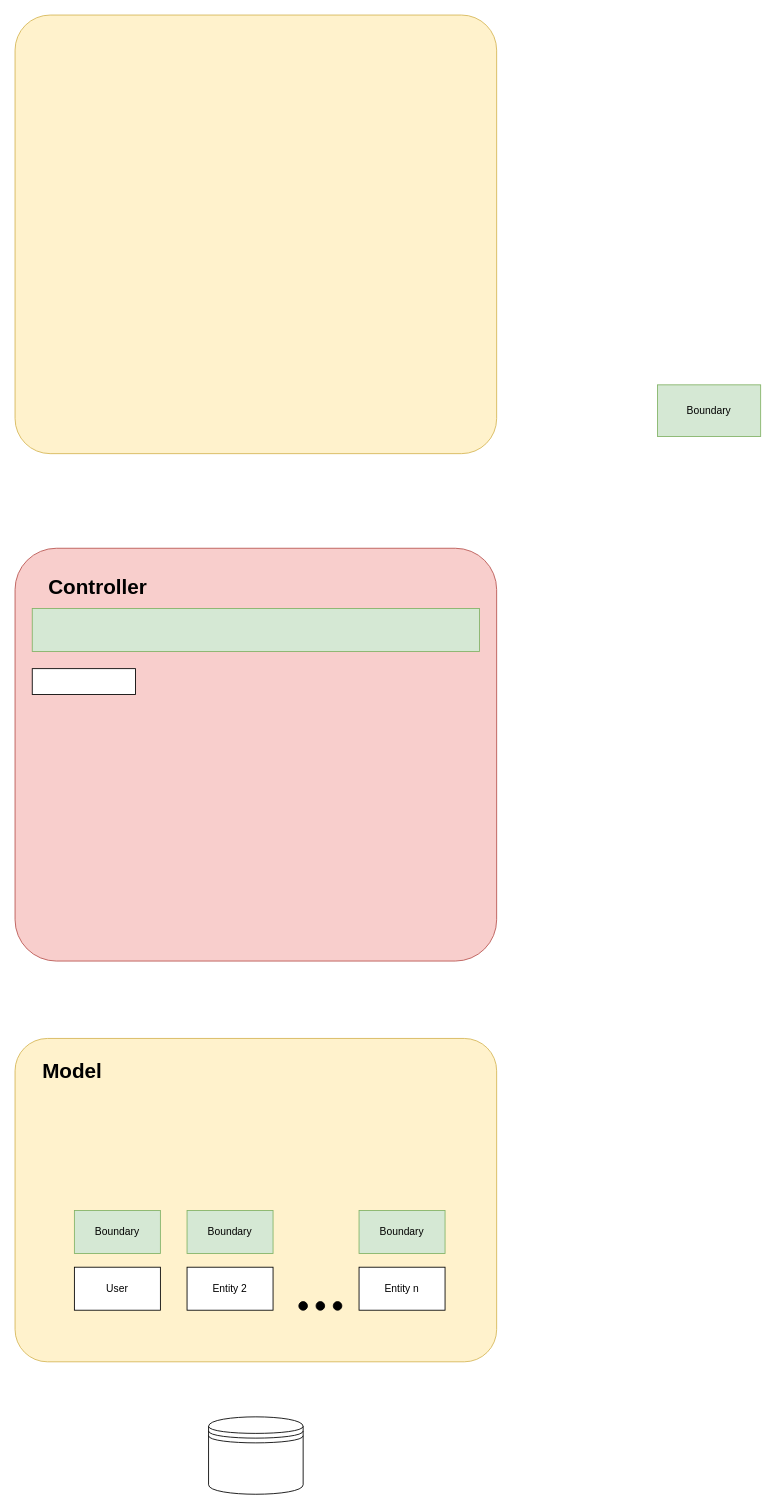
This 776x1509 diagram has some shape labels left out. The centre of each missing label's shape, as x and y in pixels:
"MongoDB" goes at point 255,1455.
"Parse incoming request and forward in form of and object" goes at point 255,629.
"Sign up" goes at point 83,681.
"View" goes at point 255,234.
